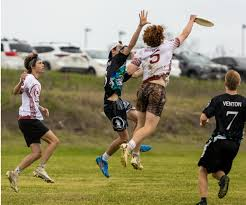disc: (191, 14, 214, 29)
